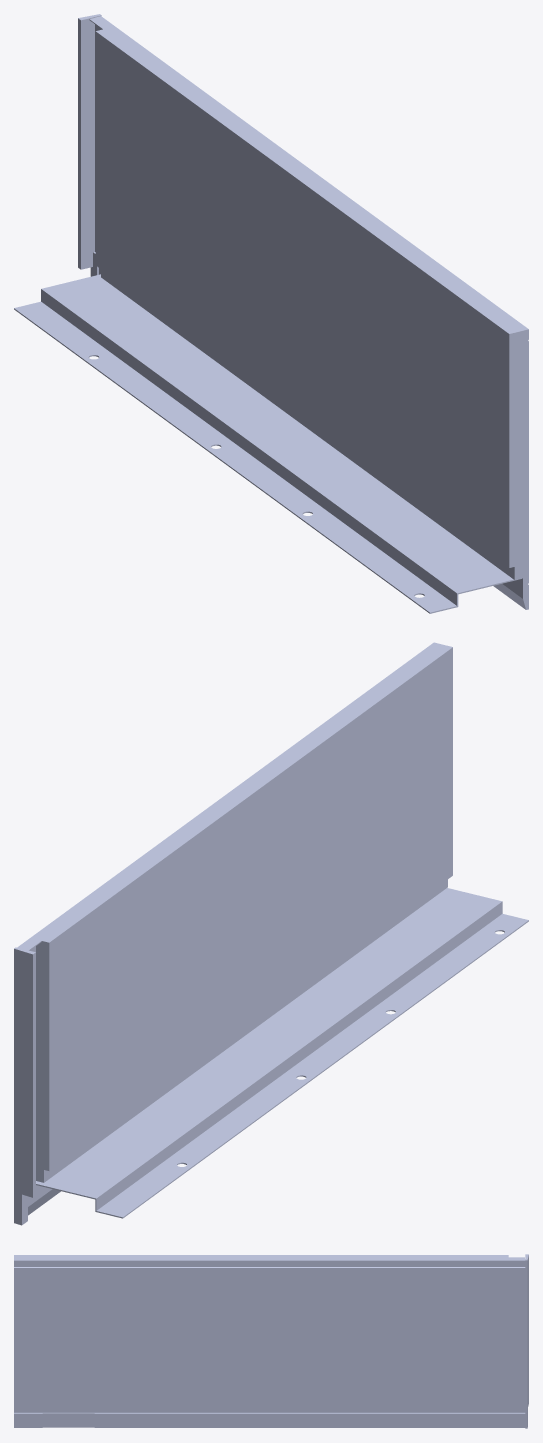
File: lg-kava-C500-m.glb
The picture shows the model from 3 angles, top to bottom: view 1: azimuth 30°, elevation 25°; view 2: azimuth 150°, elevation 25°; view 3: azimuth 270°, elevation 25°; orthographic projection. The views are drawn at different scales.
Visible parts, largest first — view 1: 42450511; view 2: 42450511; view 3: 42450511.
Boxes of the visible parts, left/top/right/bottom form: 42450511: left=14, top=14, right=528, bottom=613; 42450511: left=14, top=642, right=528, bottom=1225; 42450511: left=14, top=1254, right=528, bottom=1428.
Bounding box in the file's own units: 0.0653 × 0.1777 × 0.4935.
